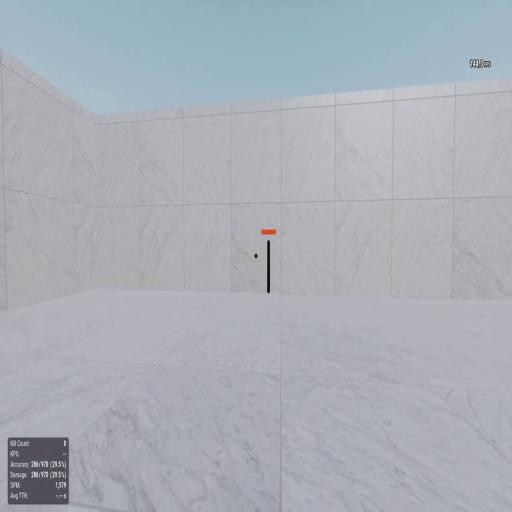Crosshair: (254, 252, 258, 261)
Target: (267, 240, 270, 293)
